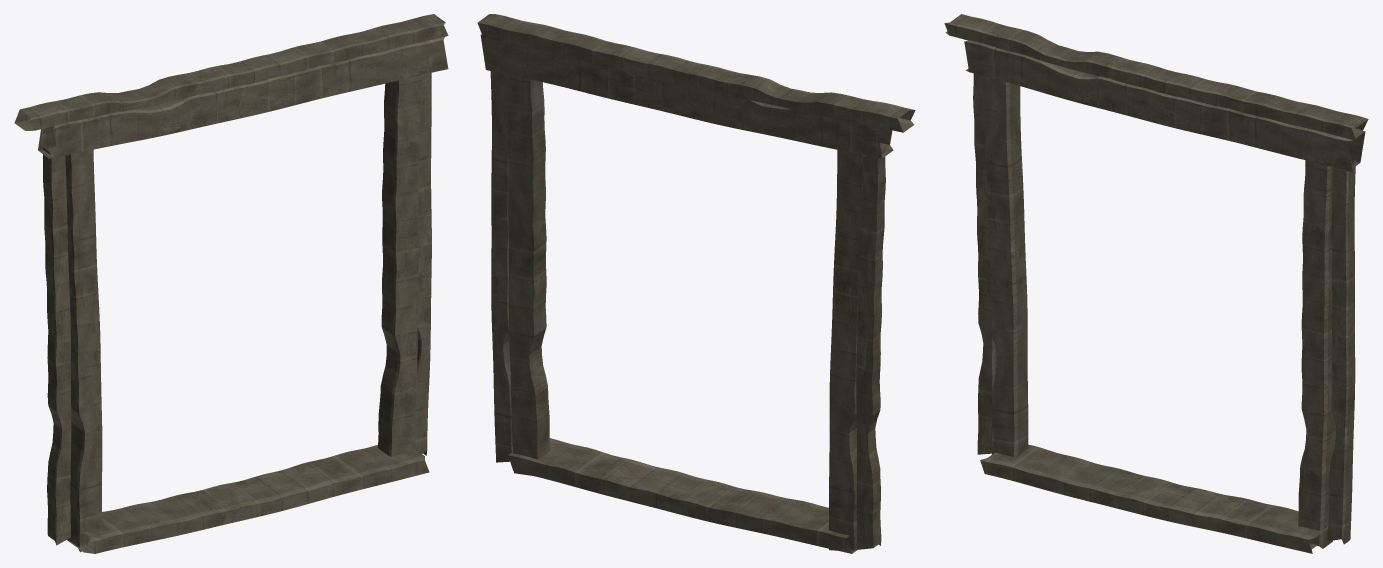
File: threshold_lining.glb
3 views of the same model, side by side, from view 1: azimuth 30°, elevation 25°; view 2: azimuth 150°, elevation 25°; view 3: azimuth 330°, elevation 25° (orthographic). The views are drawn at different scales.
Size of the model in its own units: 2.98 by 3.01 by 0.346.
Materials: 1 (1 with a texture image).
